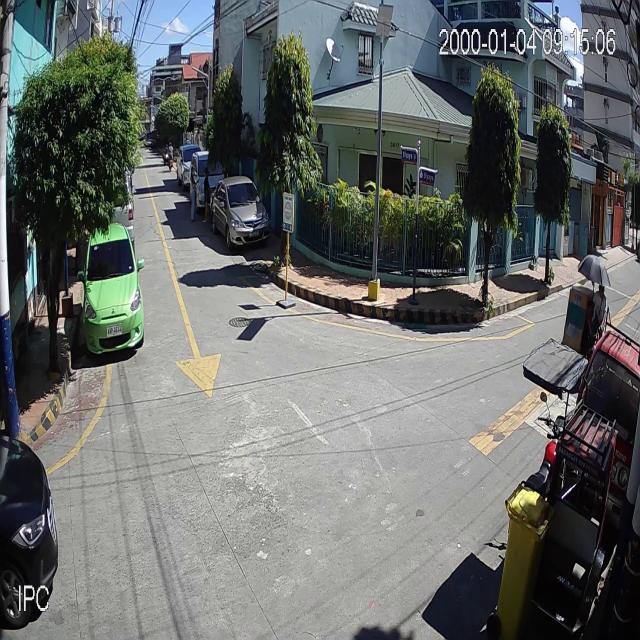standing: (201, 166, 214, 223), (189, 166, 200, 221)
